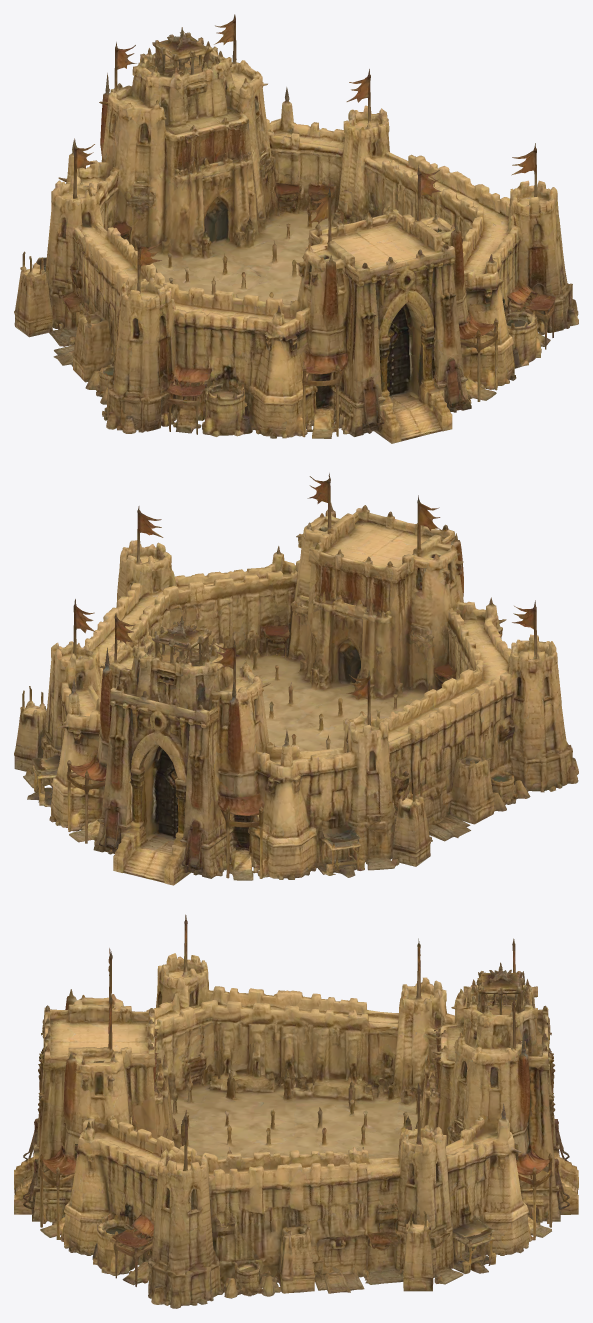
File: MakranFort.glb
3 renders of one model, top to bottom at view 1: azimuth 30°, elevation 25°; view 2: azimuth 150°, elevation 25°; view 3: azimuth 270°, elevation 25°, orthographic.
Size of the model in its own units: 1.85 by 0.8812 by 1.9.
Materials: 1 (1 with a texture image).
